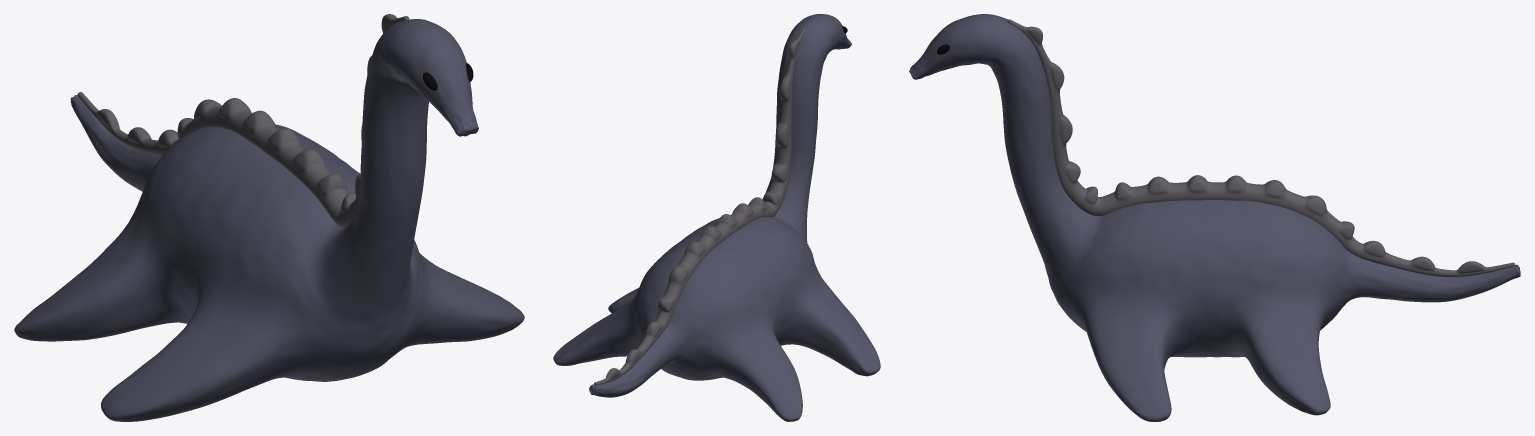
Rendered from golf-3d-icon-1504623473111.glb.
3 views of the same model, side by side, from view 1: azimuth 30°, elevation 25°; view 2: azimuth 150°, elevation 25°; view 3: azimuth 270°, elevation 25° (orthographic). The views are drawn at different scales.
Parts seen in each view (by area): view 1: Base Body, Shell; view 2: Base Body, Shell; view 3: Base Body, Shell.
Boxes of the visible parts, x1,y1,x2,y2 form: Base Body: (14, 19, 524, 421); Shell: (77, 14, 409, 227); Base Body: (553, 14, 880, 421); Shell: (594, 28, 806, 385); Base Body: (909, 14, 1520, 421); Shell: (1007, 19, 1515, 276).
Bounding box in the file's own units: 3.36 × 3.32 × 5.53.
